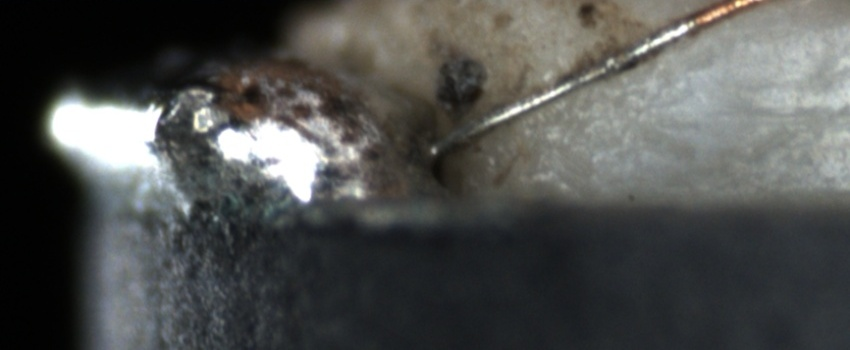DL: (584, 81, 850, 145), (696, 3, 850, 67)
TS: (435, 19, 692, 156)
TTCW: (430, 1, 745, 149)
